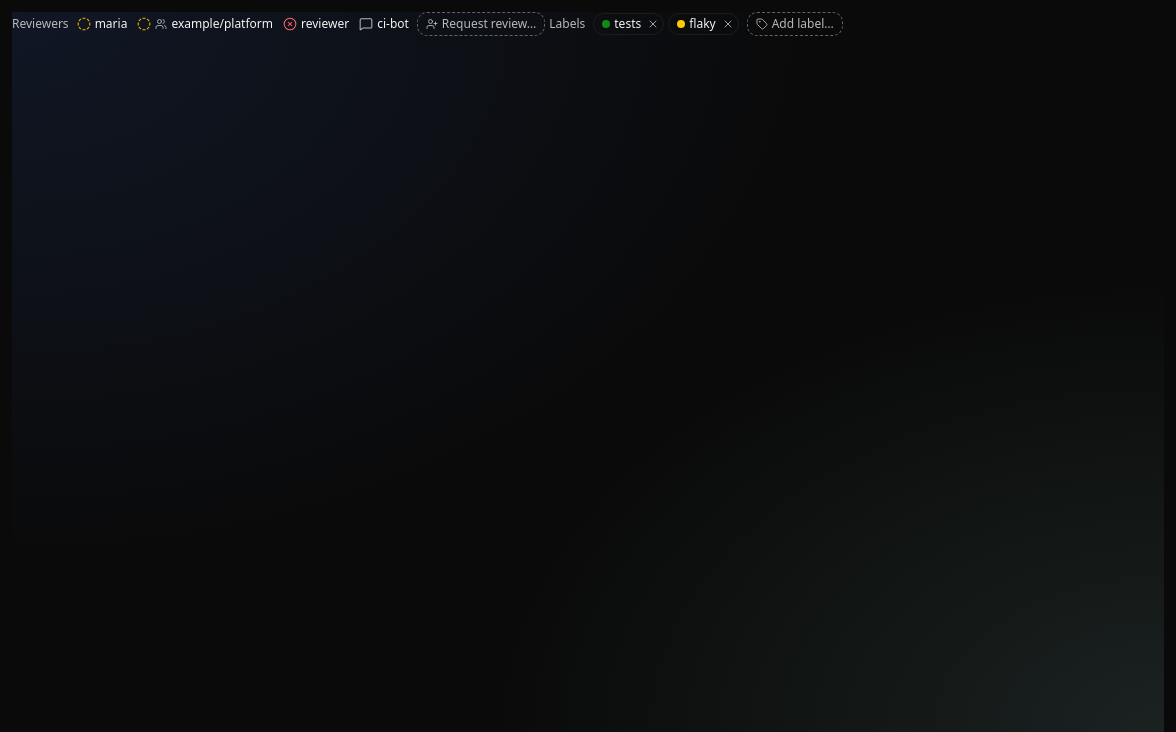
Test case: PrPeople › requests a review from typed and suggested names, skipping who's already asked
The width and height of the screenshot is (1176, 732).
Click the button "Request review…": (481, 24) [417,12,545,36]
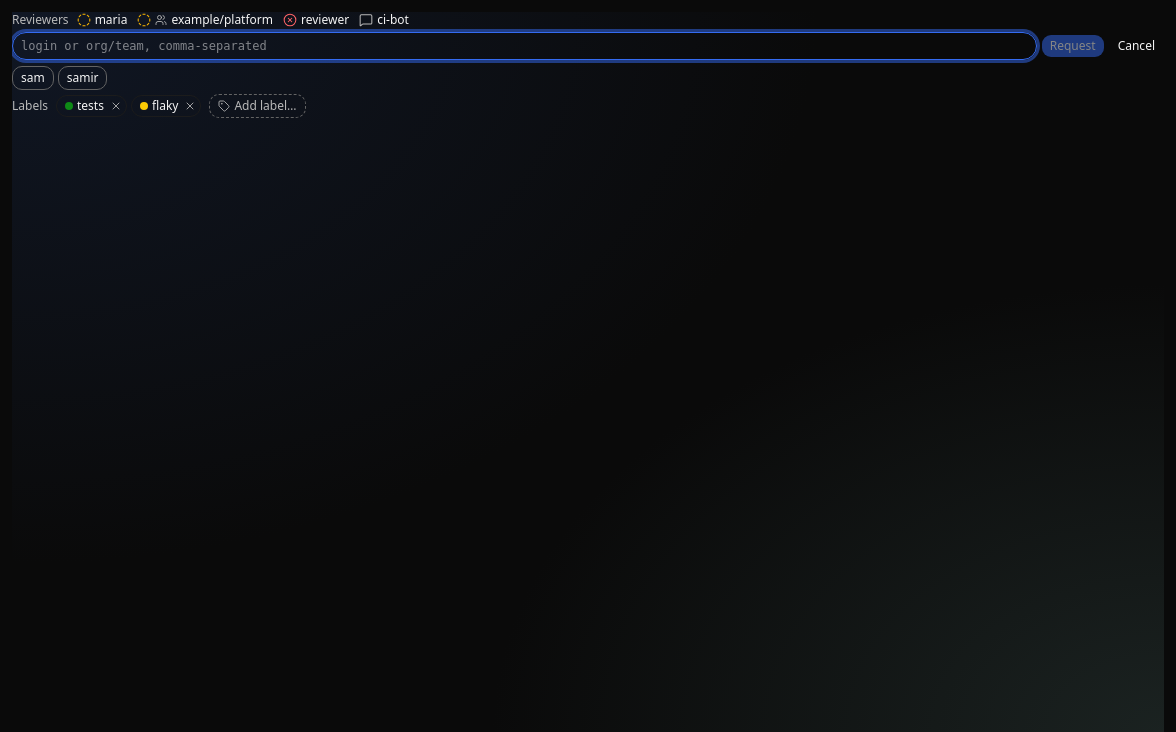
Now the buttons read "sam", "samir", in this order, box [12,66,54,90]; [58,66,108,90]
In the field named "Logins or teams to ask": (524, 46) [12,32,1037,60], type "priya, sami"
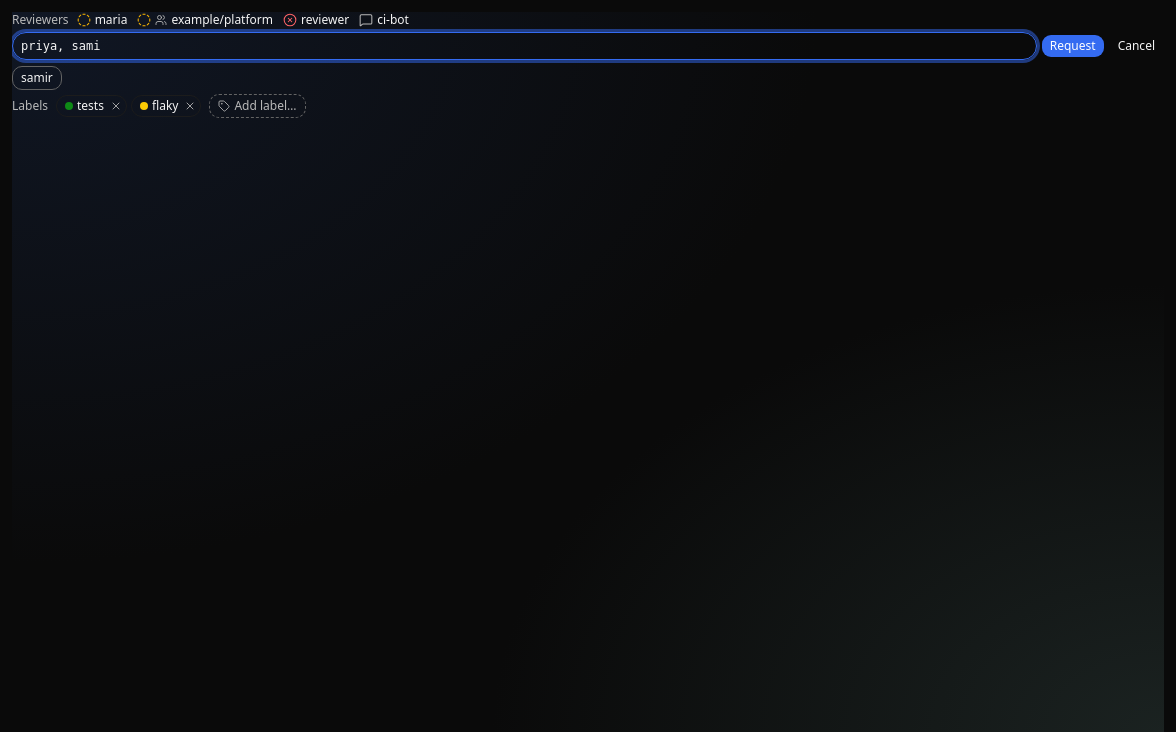
Click the button "samir": (37, 78) [12,66,62,90]
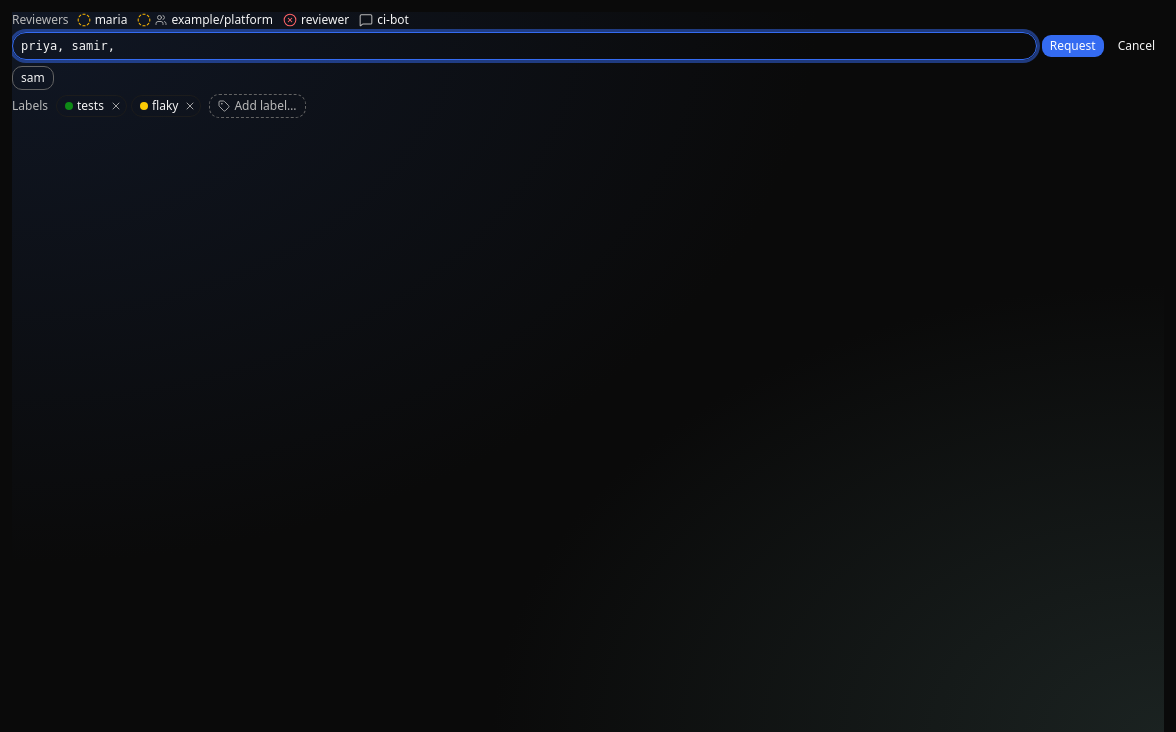
Expected: the field named "Logins or teams to ask" holds "priya, samir, ", [12,32,1037,60]
Click the button "Request": (1073, 46) [1041,34,1105,58]
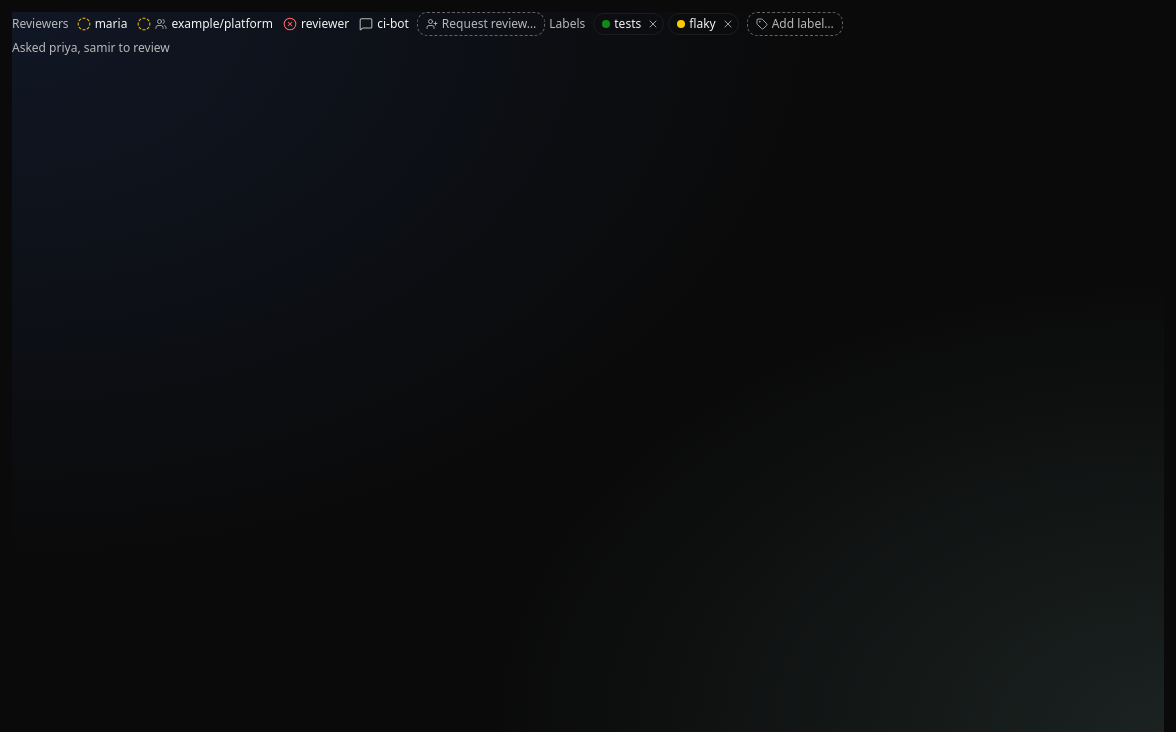
Now the message reads "Asked priya, samir to review", box [12,39,170,56]
